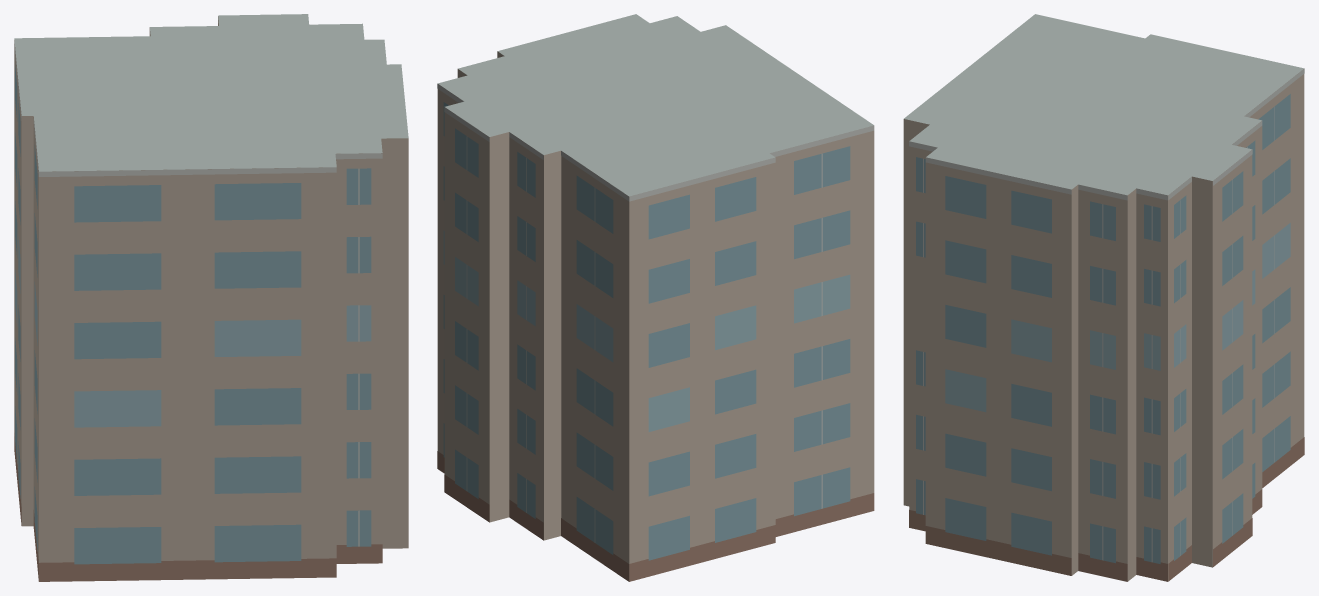
Rendered from survey-upis-32782584.glb.
3 renders of one model, left to right at view 1: azimuth 30°, elevation 25°; view 2: azimuth 150°, elevation 25°; view 3: azimuth 270°, elevation 25°, orthographic. The views are drawn at different scales.
Visible parts, largest first — view 1: survey-upis-32782584.tmp; view 2: survey-upis-32782584.tmp; view 3: survey-upis-32782584.tmp.
Boxes of the visible parts, <box> form: survey-upis-32782584.tmp: <box>14,14,408,581</box>; survey-upis-32782584.tmp: <box>437,14,874,581</box>; survey-upis-32782584.tmp: <box>903,14,1304,581</box>.
Bounding box in the file's own units: 18.43 × 18.3 × 17.21.
